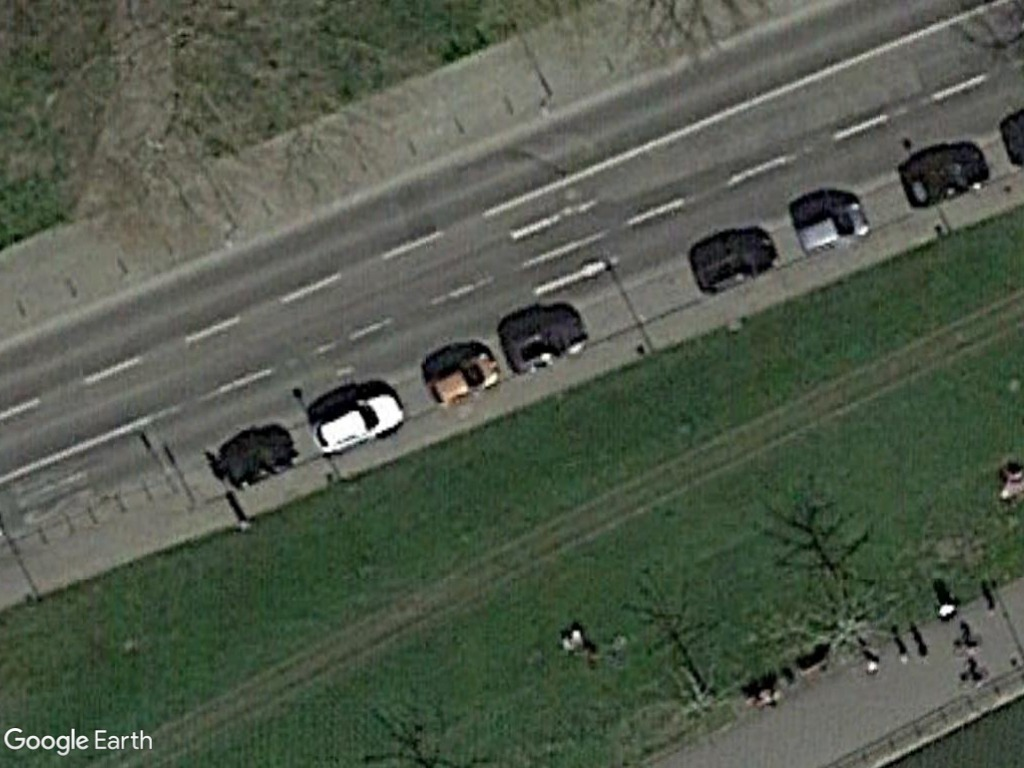car: (310, 387, 406, 458), (421, 349, 501, 412), (793, 197, 871, 256)
